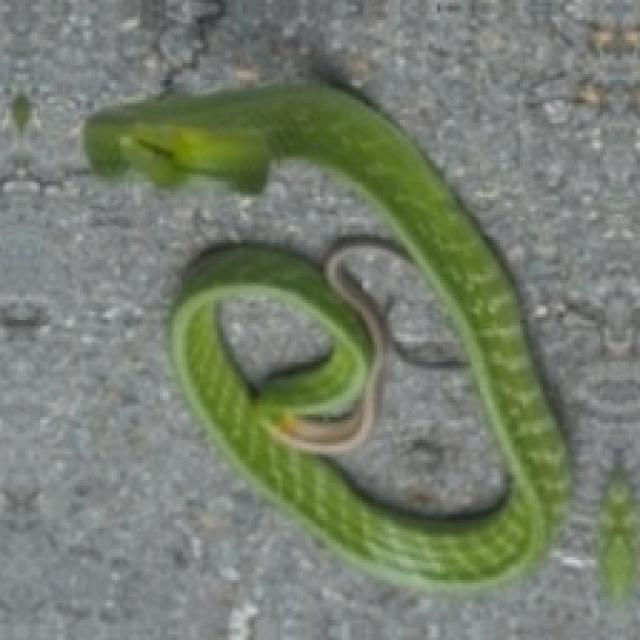red-tailed green ratsnake: (84, 86, 570, 586)
